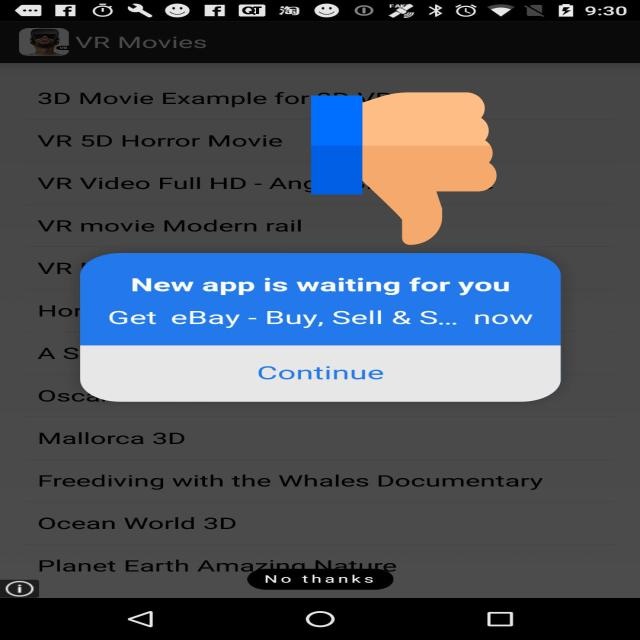obstruction: (311, 89, 497, 248)
